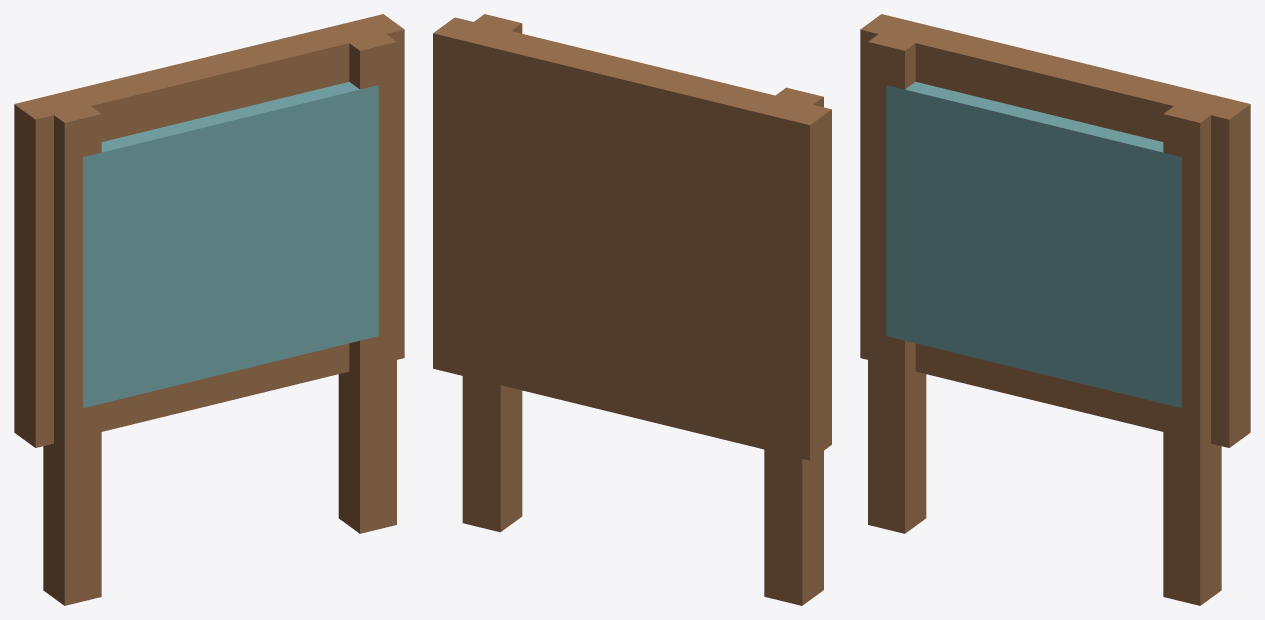
File: beauty-03.glb
3 views of the same model, side by side, from view 1: azimuth 30°, elevation 25°; view 2: azimuth 150°, elevation 25°; view 3: azimuth 330°, elevation 25° (orthographic). The views are drawn at different scales.
Visible parts, largest first — view 1: Makeup mirror; view 2: Makeup mirror; view 3: Makeup mirror.
Part boxes in pixels (bbox=[...]): Makeup mirror: bbox=[14, 14, 404, 605]; Makeup mirror: bbox=[433, 14, 831, 605]; Makeup mirror: bbox=[860, 14, 1250, 605].
Size of the model in its own units: 1.6 by 2 by 0.24.
